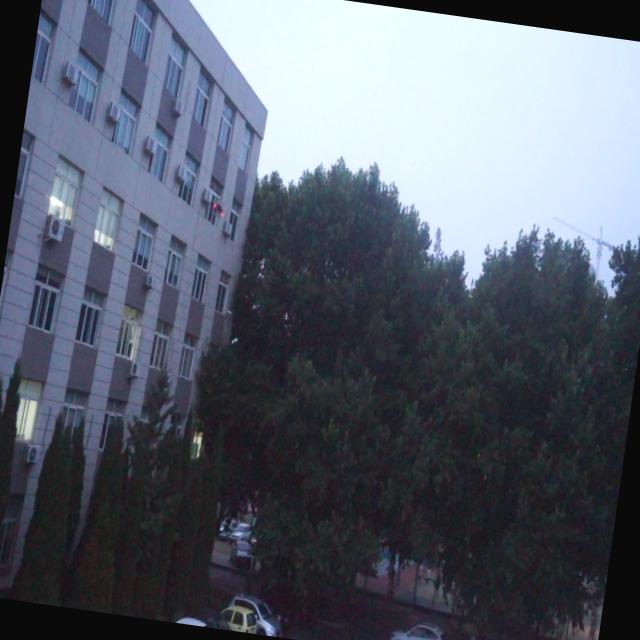drone: (208, 194, 230, 226)
